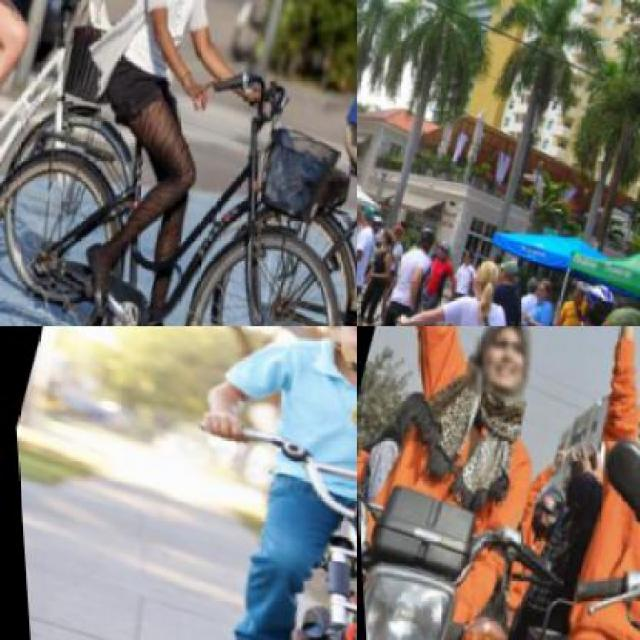Without Helmet: (452, 326, 551, 411)
